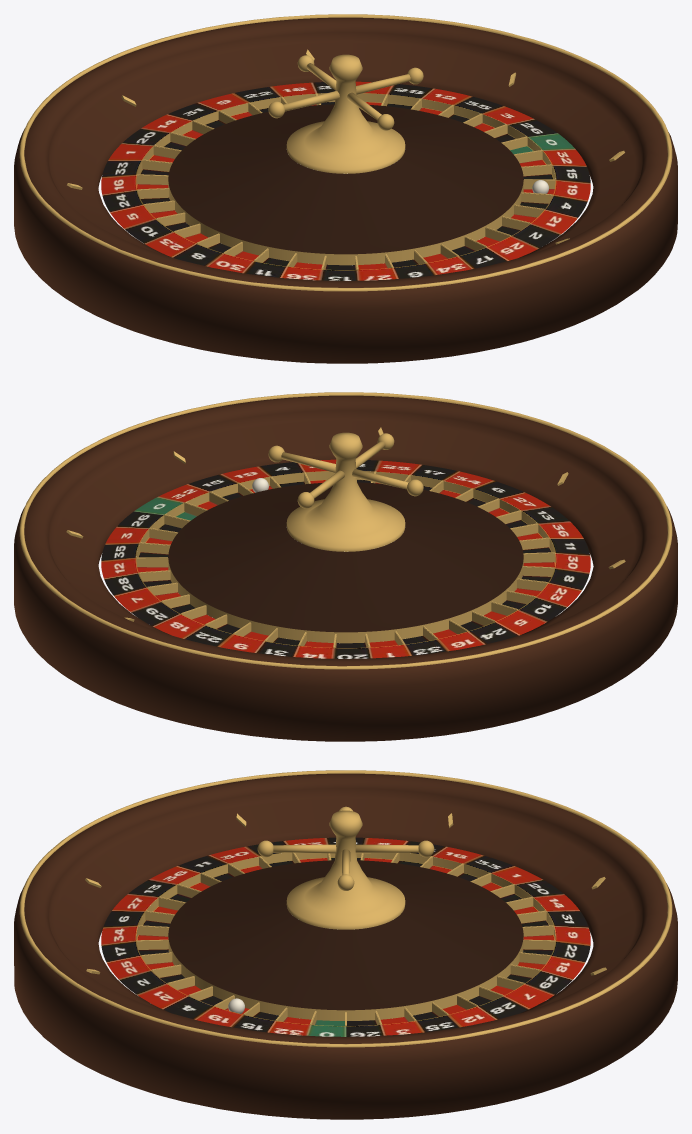
Rendered from ruleta.glb.
3 renders of one model, top to bottom at view 1: azimuth 30°, elevation 25°; view 2: azimuth 150°, elevation 25°; view 3: azimuth 270°, elevation 25°, orthographic.
Visible parts, largest first — view 1: GEO-ruleta_tazon, GEO-ruleta_cono, GEO-ruleta_numeros, GEO-ruleta_torre, GEO-ruleta_trastes, GEO-ruleta_aro_laton, GEO-ruleta_bolsas, GEO-ruleta_pared_int, GEO-ruleta_pared_ext, GEO-ruleta_brazos; view 2: GEO-ruleta_tazon, GEO-ruleta_cono, GEO-ruleta_numeros, GEO-ruleta_trastes, GEO-ruleta_torre, GEO-ruleta_aro_laton, GEO-ruleta_bolsas, GEO-ruleta_pared_int, GEO-ruleta_pared_ext, GEO-ruleta_brazos; view 3: GEO-ruleta_tazon, GEO-ruleta_cono, GEO-ruleta_numeros, GEO-ruleta_trastes, GEO-ruleta_aro_laton, GEO-ruleta_torre, GEO-ruleta_bolsas, GEO-ruleta_pared_int, GEO-ruleta_pared_ext, GEO-ruleta_brazos.
Part boxes in pixels (bbox=[...]): GEO-ruleta_tazon: bbox=[14, 17, 677, 363]; GEO-ruleta_cono: bbox=[168, 104, 523, 254]; GEO-ruleta_numeros: bbox=[101, 81, 590, 280]; GEO-ruleta_torre: bbox=[286, 54, 405, 173]; GEO-ruleta_trastes: bbox=[137, 93, 555, 269]; GEO-ruleta_aro_laton: bbox=[19, 14, 672, 291]; GEO-ruleta_bolsas: bbox=[136, 101, 554, 269]; GEO-ruleta_pared_int: bbox=[168, 182, 523, 265]; GEO-ruleta_pared_ext: bbox=[136, 93, 555, 184]; GEO-ruleta_brazos: bbox=[268, 55, 423, 130]; GEO-ruleta_tazon: bbox=[14, 395, 677, 741]; GEO-ruleta_cono: bbox=[168, 482, 523, 632]; GEO-ruleta_numeros: bbox=[101, 459, 590, 658]; GEO-ruleta_trastes: bbox=[136, 471, 554, 647]; GEO-ruleta_torre: bbox=[286, 432, 405, 551]; GEO-ruleta_aro_laton: bbox=[19, 392, 672, 669]; GEO-ruleta_bolsas: bbox=[137, 479, 555, 647]; GEO-ruleta_pared_int: bbox=[168, 560, 523, 643]; GEO-ruleta_pared_ext: bbox=[136, 471, 555, 562]; GEO-ruleta_brazos: bbox=[268, 433, 423, 508]; GEO-ruleta_tazon: bbox=[14, 773, 677, 1119]; GEO-ruleta_cono: bbox=[168, 860, 523, 1010]; GEO-ruleta_numeros: bbox=[101, 837, 590, 1036]; GEO-ruleta_trastes: bbox=[136, 852, 555, 1025]; GEO-ruleta_aro_laton: bbox=[19, 770, 672, 1047]; GEO-ruleta_torre: bbox=[286, 810, 405, 929]; GEO-ruleta_bolsas: bbox=[137, 857, 554, 1025]; GEO-ruleta_pared_int: bbox=[168, 937, 523, 1020]; GEO-ruleta_pared_ext: bbox=[136, 852, 555, 940]; GEO-ruleta_brazos: bbox=[257, 806, 434, 890].
Bounding box in the file's own units: 0.83 × 0.229 × 0.83.
Materials: 5 (1 with a texture image).
